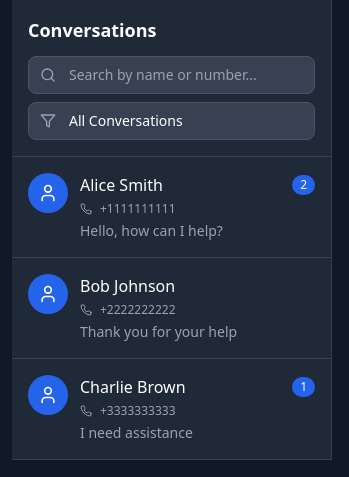
ConversationList › Search Functionality › should filter conversations by phone number
Type "+2222222222" into the field with placeholder "Search by name or number...".
click(172, 75); type("+2222222222")  # box left=28, top=56, right=315, bottom=94
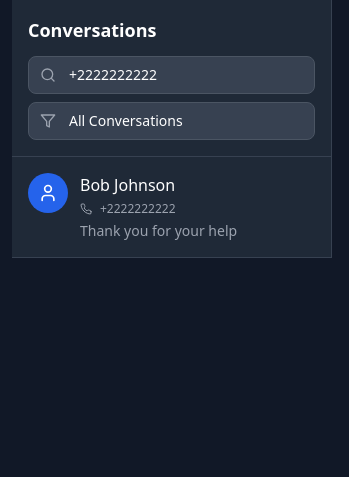
Expected: the text "Bob Johnson" is shown, left=80, top=173, right=175, bottom=197
Expected: the button "Alice Smith" is gone
Expected: the button "Charlie Brown" is gone
